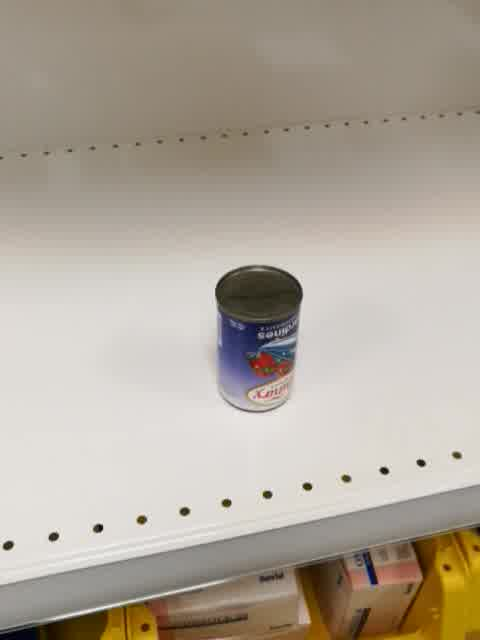sardine: (214, 264, 303, 413)
